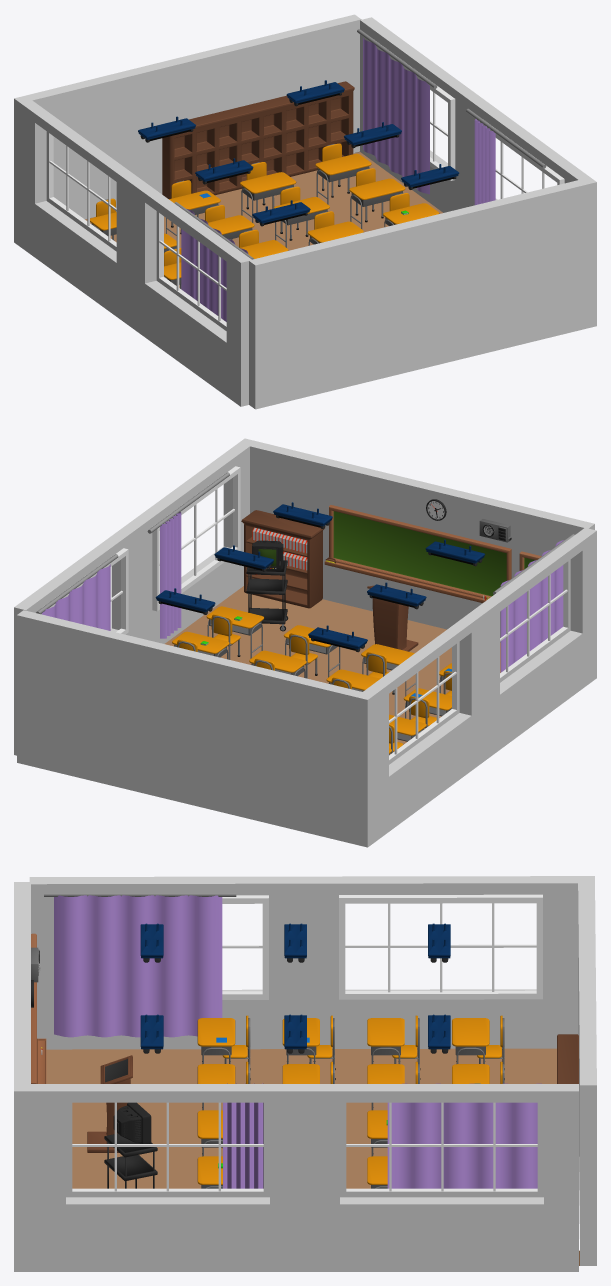
Rendered from Classroom.fbx.
3 views of the same model, one above another, from view 1: azimuth 30°, elevation 25°; view 2: azimuth 150°, elevation 25°; view 3: azimuth 270°, elevation 25° (orthographic). The views are drawn at different scales.
Parts seen in each view (by area): view 1: demoscene_21, demoscene_21.001, demoscene_9, demoscene_7, demoscene_18, demoscene_10, demoscene_18.001, demoscene_19; view 2: demoscene_21.001, demoscene_21, demoscene, demoscene_7, demoscene_10, demoscene_8, demoscene_18.001, demoscene_18, demoscene_19, demoscene_13, demoscene_12, demoscene_14 (+1 smaller); view 3: demoscene_21, demoscene_21.001, demoscene_18.001, demoscene_7, demoscene_18, demoscene_10, demoscene_19, demoscene_13, demoscene_12, demoscene_9, demoscene.
Boxes of the visible parts, x1,y1,x2,y2 form: demoscene_21: [85, 17, 596, 409]; demoscene_21.001: [14, 14, 361, 406]; demoscene_9: [162, 81, 354, 198]; demoscene_7: [90, 143, 439, 288]; demoscene_18: [357, 29, 437, 194]; demoscene_10: [138, 80, 459, 226]; demoscene_18.001: [174, 202, 253, 321]; demoscene_19: [466, 108, 546, 205]; demoscene_21.001: [17, 528, 596, 847]; demoscene_21: [14, 438, 594, 755]; demoscene: [324, 505, 511, 603]; demoscene_7: [172, 606, 451, 755]; demoscene_10: [155, 502, 485, 652]; demoscene_8: [241, 510, 325, 608]; demoscene_18.001: [493, 534, 574, 672]; demoscene_18: [36, 554, 118, 630]; demoscene_19: [147, 472, 229, 638]; demoscene_13: [246, 540, 288, 631]; demoscene_12: [367, 585, 418, 651]; demoscene_14: [252, 527, 307, 553]; demoscene_21: [14, 882, 578, 1271]; demoscene_21.001: [29, 876, 596, 1265]; demoscene_18.001: [44, 892, 236, 1037]; demoscene_7: [197, 1015, 504, 1188]; demoscene_18: [387, 1083, 541, 1188]; demoscene_10: [140, 923, 450, 1053]; demoscene_19: [223, 1083, 263, 1188]; demoscene_13: [104, 1102, 157, 1188]; demoscene_12: [87, 1055, 132, 1152]; demoscene_9: [557, 1034, 578, 1083]; demoscene: [31, 982, 46, 1083].
Bounding box in the file's own units: 904 × 354 × 1035.
Materials: 3 (2 with a texture image).
